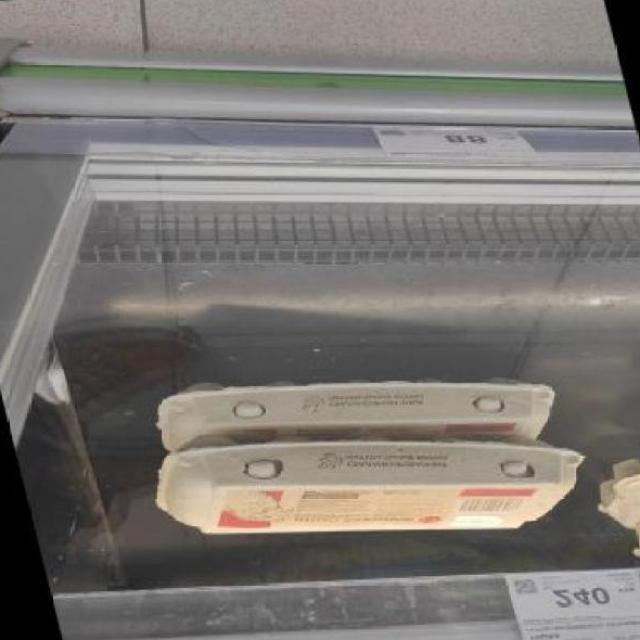Egg: (112, 406, 620, 564), (624, 501, 640, 573)
